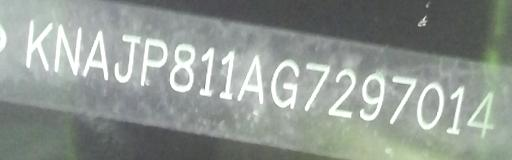letter: (327, 63, 357, 119), (466, 87, 496, 140), (270, 57, 300, 109), (25, 17, 53, 72), (168, 40, 196, 94), (389, 72, 417, 125), (54, 22, 82, 75), (81, 27, 109, 80), (113, 32, 141, 85), (236, 52, 264, 104), (416, 79, 444, 131), (358, 70, 386, 121), (304, 60, 330, 114), (140, 36, 168, 86), (444, 81, 464, 134), (217, 47, 235, 99), (199, 46, 215, 96)
